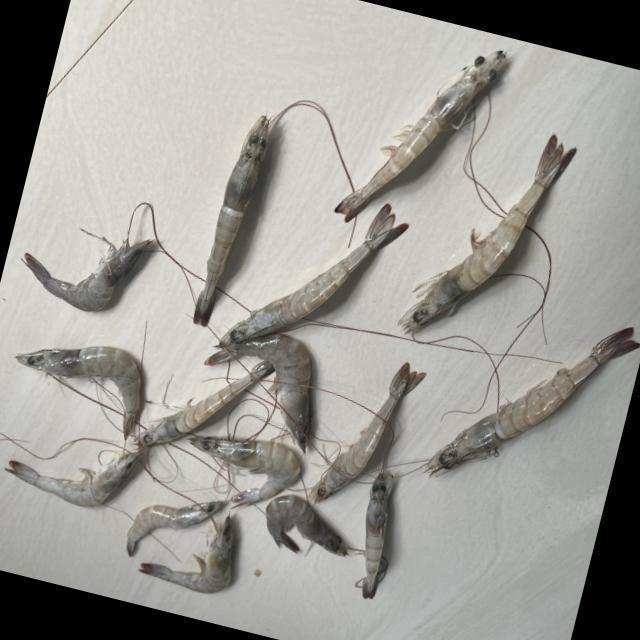shrimp: (398, 134, 576, 333), (427, 328, 640, 477), (335, 50, 505, 221), (220, 204, 408, 346), (308, 363, 425, 505), (194, 115, 268, 326), (204, 334, 310, 453), (15, 346, 140, 439), (138, 361, 273, 447), (23, 232, 149, 311), (189, 437, 300, 505), (138, 515, 233, 594), (4, 452, 138, 508), (125, 502, 222, 556), (266, 496, 347, 556), (355, 473, 393, 600)
